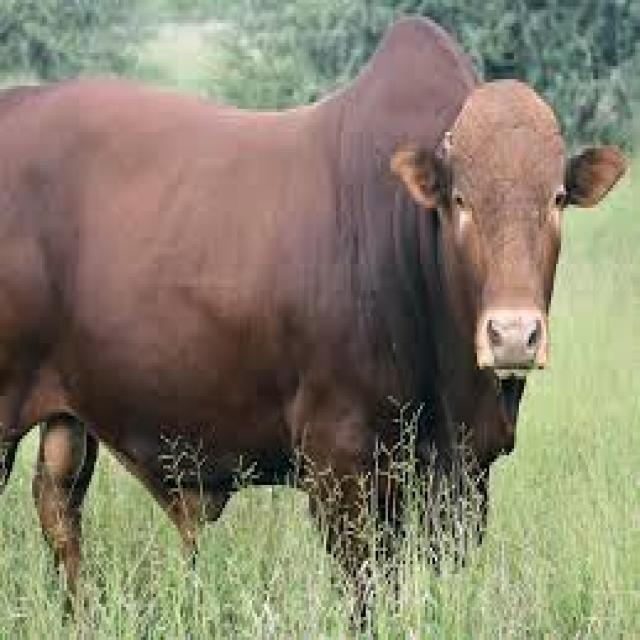cowFace: (373, 29, 620, 426)
